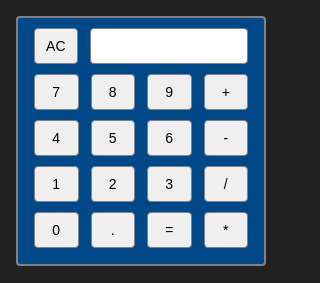
Calculator › Should show in display 1 + 1 and when click equal button
The width and height of the screenshot is (320, 283).
Click the button with test id "btn-1".
click(56, 184)  # box [34, 166, 78, 202]
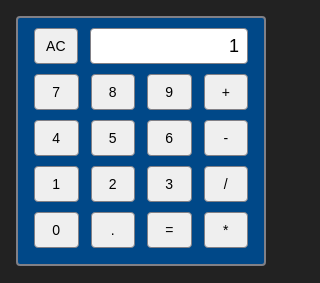
Click the button with test id "btn-+".
click(226, 92)  # box [204, 74, 248, 110]
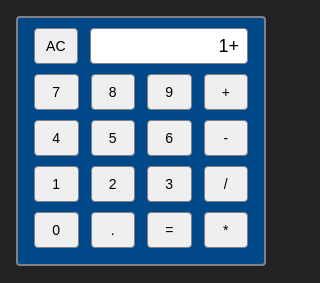
Click the button with test id "btn-1".
click(56, 184)  # box [34, 166, 78, 202]
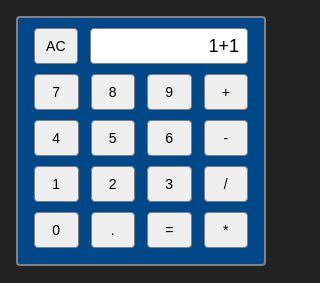
Click the button with test id "btn-=".
click(169, 230)  # box [147, 212, 192, 248]
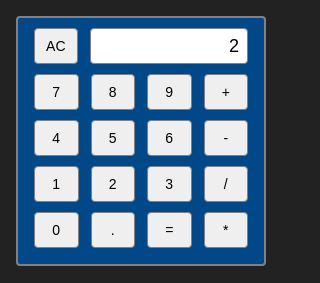
Expected: the text with test id "display" reads "2", [229, 36, 239, 56]
